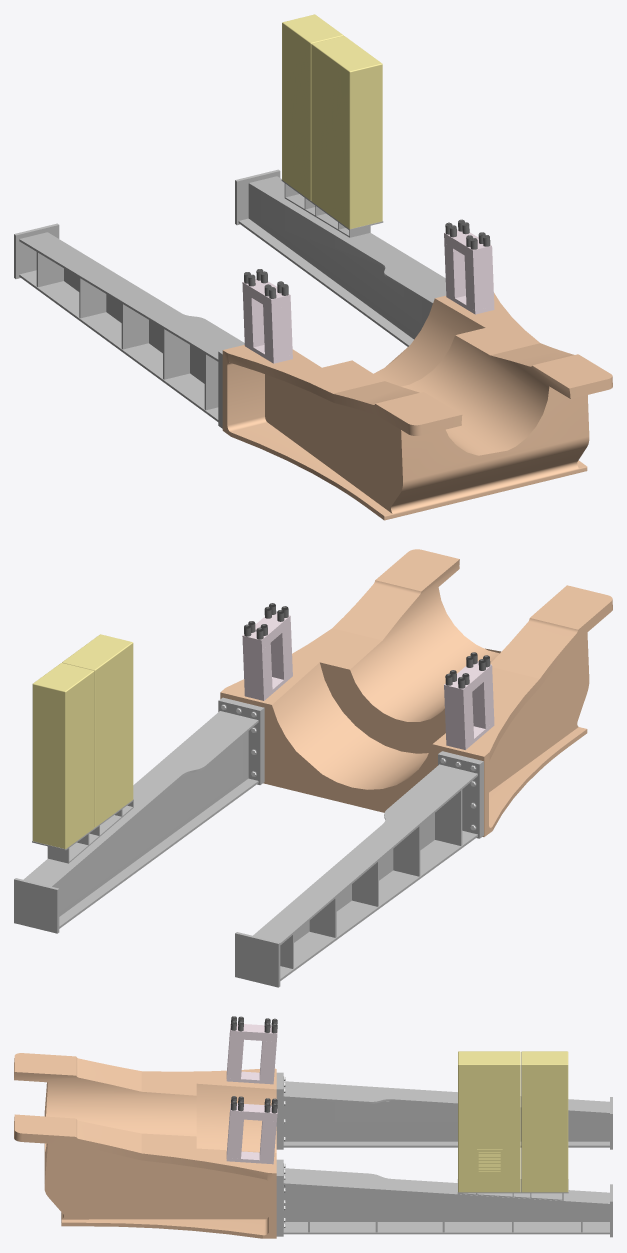
The picture shows the model from 3 angles, top to bottom: view 1: azimuth 30°, elevation 25°; view 2: azimuth 150°, elevation 25°; view 3: azimuth 270°, elevation 25°; orthographic projection. The views are drawn at different scales.
Parts seen in each view (by area): view 1: front.001, right.001, left.001, left_1.001, right_1.001, _0C6E641F3DC18749666DF3C59C03E7384C05AFCA___BA5B618AEAB_f3a, _0C6E641F3DC18749666DF3C59C03E7384C05AFCA___D9530E4FE58_64f, cabinet_base.001, _0C6E641F3DC18749666DF3C59C03E7384C05AFCA___384428368B4_ed4, _0C6E641F3DC18749666DF3C59C03E7384C05AFCA___3C15D51E979_e55, _0C6E641F3DC18749666DF3C59C03E7384C05AFCA___424401641D3_7d6, _0C6E641F3DC18749666DF3C59C03E7384C05AFCA___10A6935080B_d10; view 2: front.001, right.001, left.001, right_1.001, left_1.001, _0C6E641F3DC18749666DF3C59C03E7384C05AFCA___3C15D51E979_e55, _0C6E641F3DC18749666DF3C59C03E7384C05AFCA___384428368B4_ed4, cabinet_base.001, _0C6E641F3DC18749666DF3C59C03E7384C05AFCA___BA5B618AEAB_f3a, _0C6E641F3DC18749666DF3C59C03E7384C05AFCA___D9530E4FE58_64f, _0C6E641F3DC18749666DF3C59C03E7384C05AFCA___424401641D3_7d6, _0C6E641F3DC18749666DF3C59C03E7384C05AFCA___10A6935080B_d10; view 3: front.001, left.001, right.001, left_1.001, right_1.001, cabinet_base.001, _0C6E641F3DC18749666DF3C59C03E7384C05AFCA___10A6935080B_d10, _0C6E641F3DC18749666DF3C59C03E7384C05AFCA___424401641D3_7d6, _0C6E641F3DC18749666DF3C59C03E7384C05AFCA___D9530E4FE58_64f, _0C6E641F3DC18749666DF3C59C03E7384C05AFCA___3C15D51E979_e55, _0C6E641F3DC18749666DF3C59C03E7384C05AFCA___384428368B4_ed4, _0C6E641F3DC18749666DF3C59C03E7384C05AFCA___BA5B618AEAB_f3a (+2 smaller).
Boxes of the visible parts, x1,y1,x2,y2 form: front.001: (222,293,612,520); right.001: (14,223,244,428); left.001: (235,169,446,346); left_1.001: (311,36,382,229); right_1.001: (282,14,343,200); _0C6E641F3DC18749666DF3C59C03E7384C05AFCA___BA5B618AEAB_f3a: (263,305,292,359); _0C6E641F3DC18749666DF3C59C03E7384C05AFCA___D9530E4FE58_64f: (464,256,494,310); cabinet_base.001: (281,179,383,237); _0C6E641F3DC18749666DF3C59C03E7384C05AFCA___384428368B4_ed4: (243,292,264,347); _0C6E641F3DC18749666DF3C59C03E7384C05AFCA___3C15D51E979_e55: (444,243,465,298); _0C6E641F3DC18749666DF3C59C03E7384C05AFCA___424401641D3_7d6: (444,229,492,260); _0C6E641F3DC18749666DF3C59C03E7384C05AFCA___10A6935080B_d10: (242,278,290,309); front.001: (220,549,612,836); right.001: (235,751,483,987); left.001: (14,697,264,933); right_1.001: (32,663,94,848); left_1.001: (62,634,133,827); _0C6E641F3DC18749666DF3C59C03E7384C05AFCA___3C15D51E979_e55: (243,643,272,697); _0C6E641F3DC18749666DF3C59C03E7384C05AFCA___384428368B4_ed4: (444,692,473,746); cabinet_base.001: (32,799,133,863); _0C6E641F3DC18749666DF3C59C03E7384C05AFCA___BA5B618AEAB_f3a: (472,674,494,728); _0C6E641F3DC18749666DF3C59C03E7384C05AFCA___D9530E4FE58_64f: (270,625,292,679); _0C6E641F3DC18749666DF3C59C03E7384C05AFCA___424401641D3_7d6: (242,612,290,649); _0C6E641F3DC18749666DF3C59C03E7384C05AFCA___10A6935080B_d10: (444,661,492,699); front.001: (14,1053,276,1238); left.001: (276,1159,612,1237); right.001: (276,1072,612,1149); left_1.001: (458,1051,520,1192); right_1.001: (521,1051,568,1192); cabinet_base.001: (457,1179,568,1200); _0C6E641F3DC18749666DF3C59C03E7384C05AFCA___10A6935080B_d10: (230,1023,277,1041); _0C6E641F3DC18749666DF3C59C03E7384C05AFCA___424401641D3_7d6: (230,1103,277,1121); _0C6E641F3DC18749666DF3C59C03E7384C05AFCA___D9530E4FE58_64f: (227,1112,243,1158); _0C6E641F3DC18749666DF3C59C03E7384C05AFCA___3C15D51E979_e55: (259,1120,276,1160); _0C6E641F3DC18749666DF3C59C03E7384C05AFCA___384428368B4_ed4: (259,1041,276,1081); _0C6E641F3DC18749666DF3C59C03E7384C05AFCA___BA5B618AEAB_f3a: (227,1033,243,1078).
Bounding box in the file's own units: 328 × 250 × 764.
